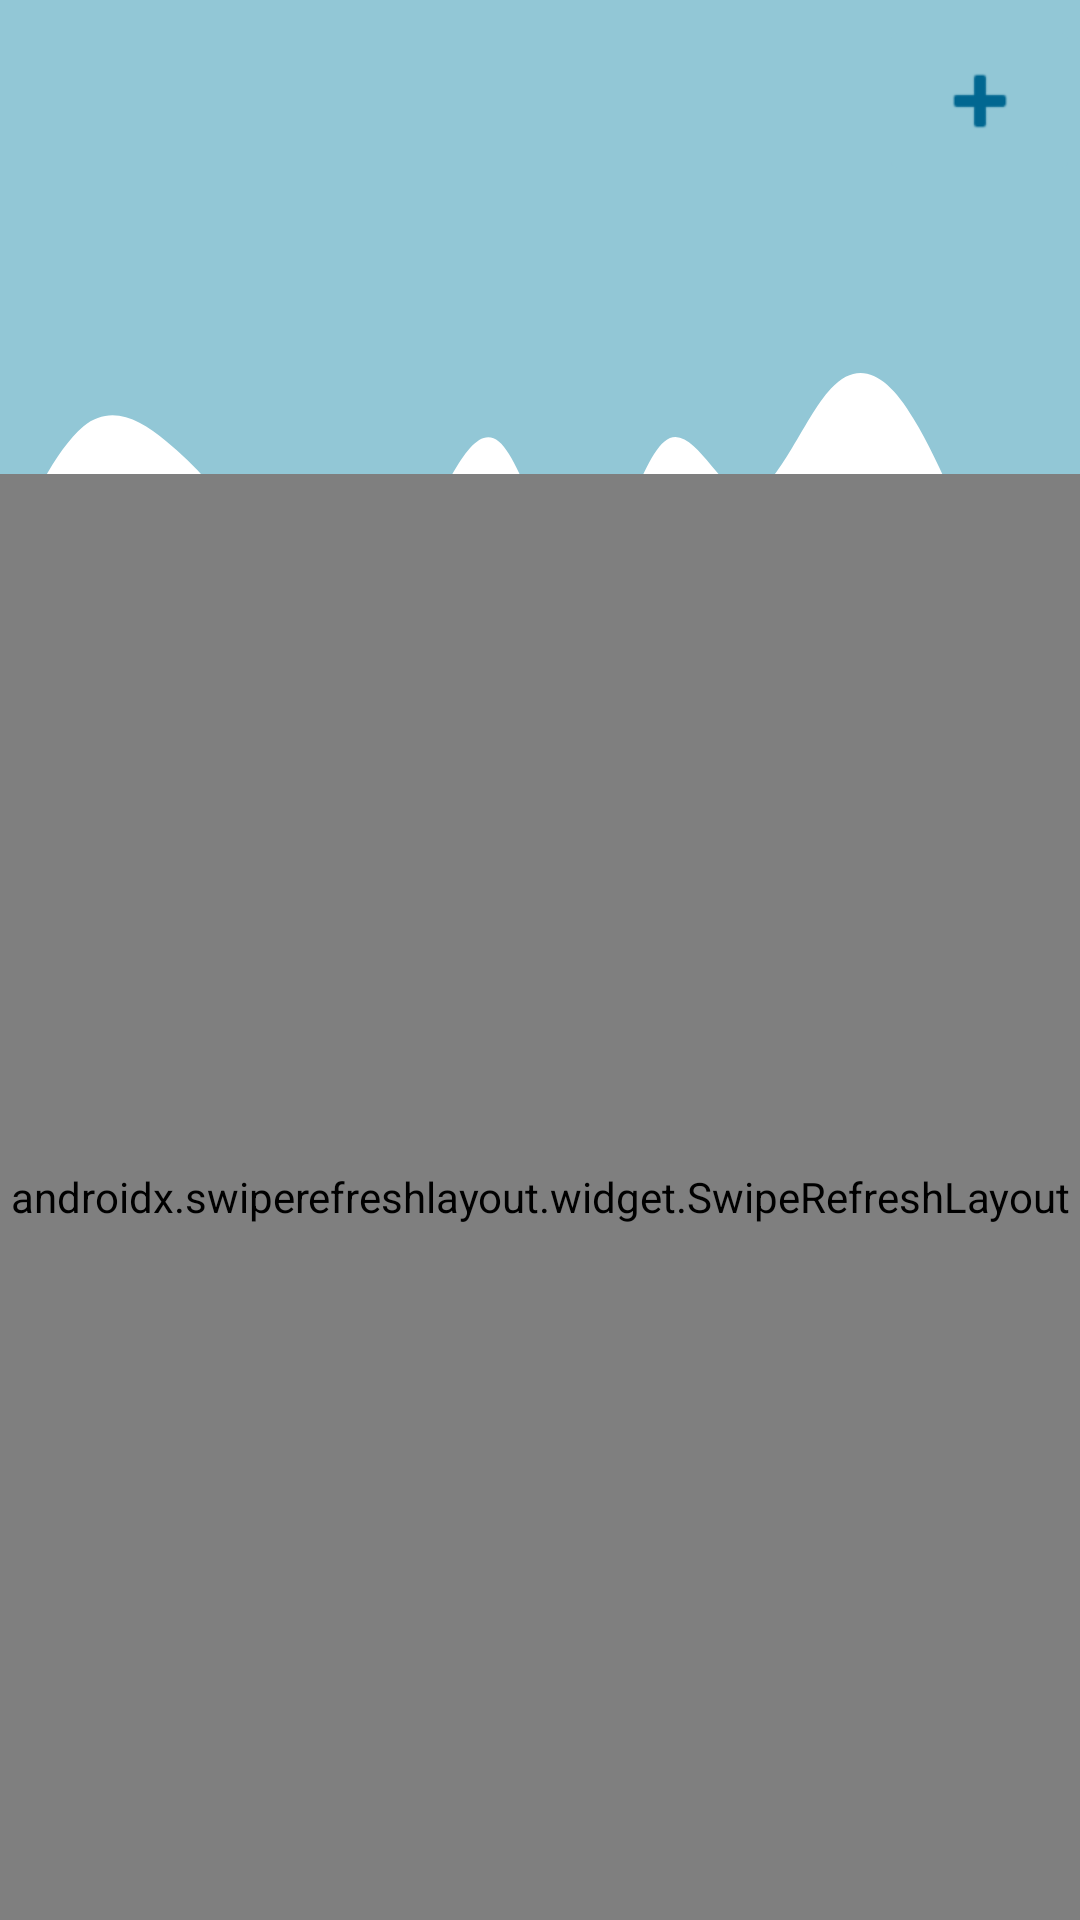

Where to tap for icons on this 1080w x 1920h app screen, as (x,y):
add: (980,101)
